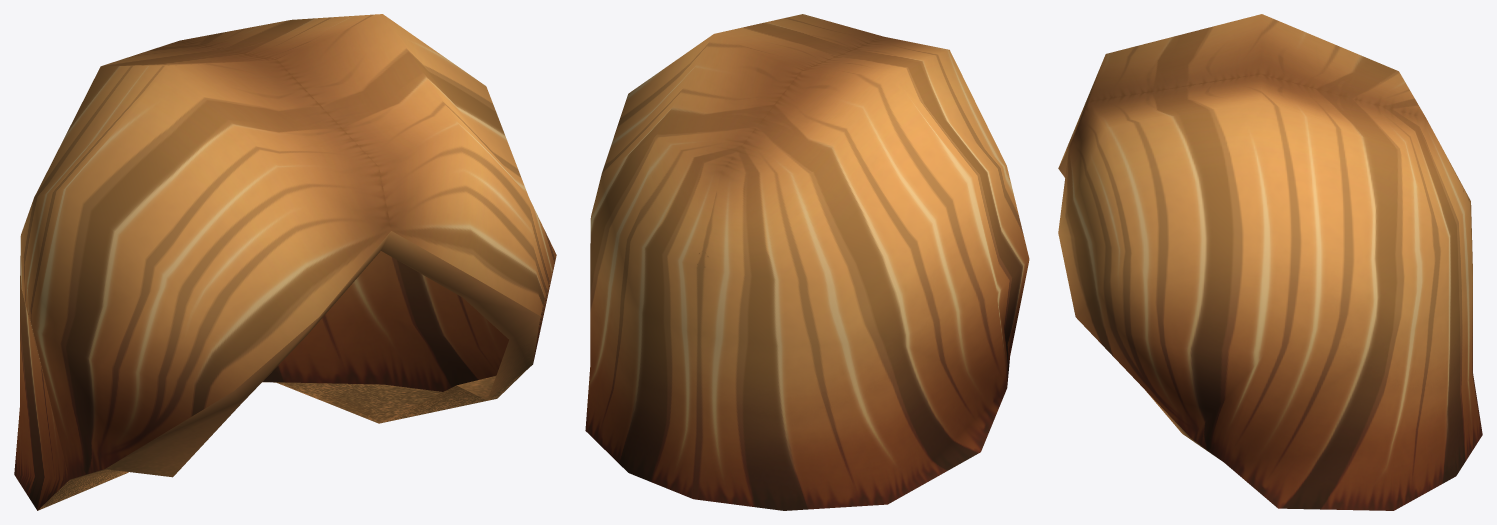
The model's file is Hair_Longboy.FBX.
The picture shows the model from 3 angles, left to right: view 1: azimuth 30°, elevation 25°; view 2: azimuth 150°, elevation 25°; view 3: azimuth 270°, elevation 25°; orthographic projection. The views are drawn at different scales.
Parts seen in each view (by area): view 1: Hair_Longboy; view 2: Hair_Longboy; view 3: Hair_Longboy.
Part boxes in pixels (x1,y1,x2,y2): Hair_Longboy: (14, 14, 556, 510); Hair_Longboy: (585, 14, 1029, 510); Hair_Longboy: (1058, 14, 1482, 510).
Bounding box in the file's own units: 283 × 252 × 255.
Materials: 1 (1 with a texture image).
